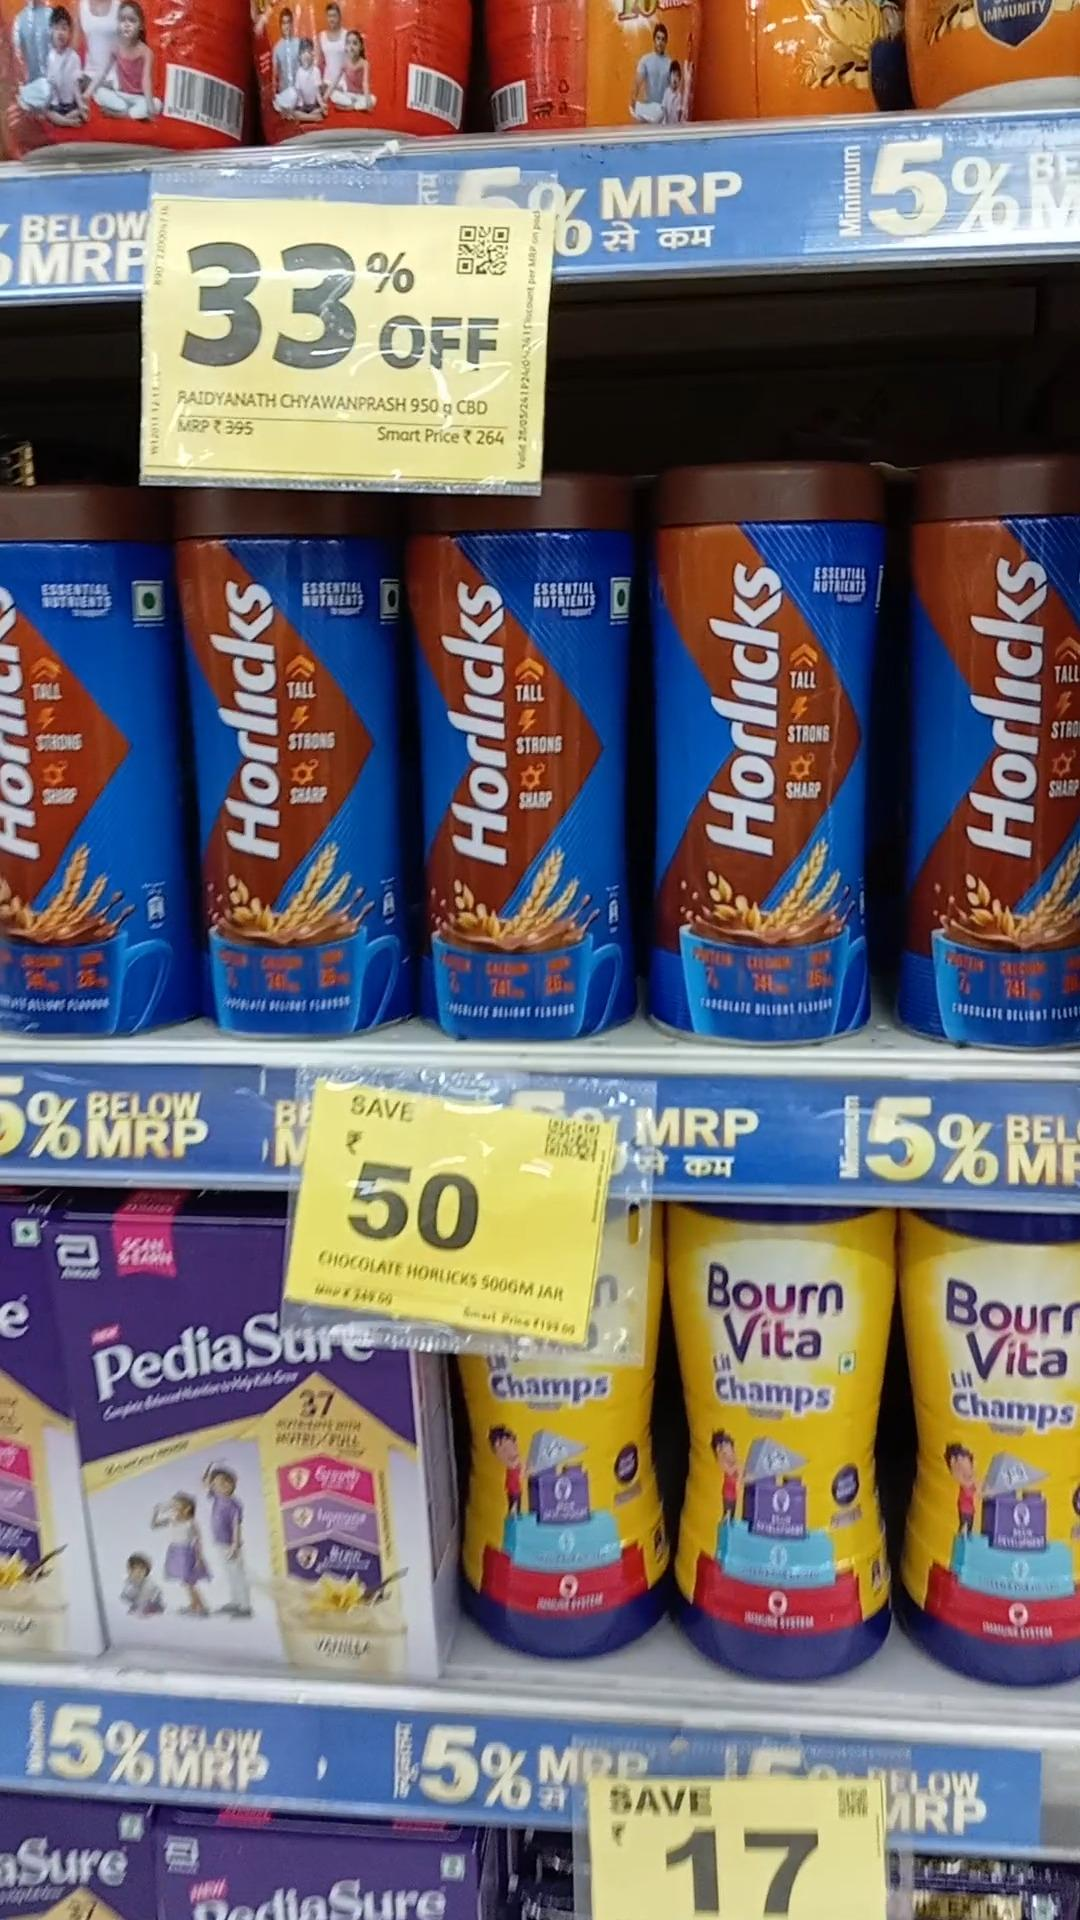BOURN_VITA_CHAMPS_500_G_JAR: (675, 1205, 895, 1680), (913, 1192, 1080, 1687)
HORLICK_CHOCOLATE_500_G_JAR: (646, 456, 865, 1038), (434, 498, 636, 1047), (212, 485, 411, 1031), (897, 452, 1080, 1040), (3, 495, 186, 1035)
PEDIASURE_VANILLA_500_G_PACK: (66, 1269, 438, 1708)
